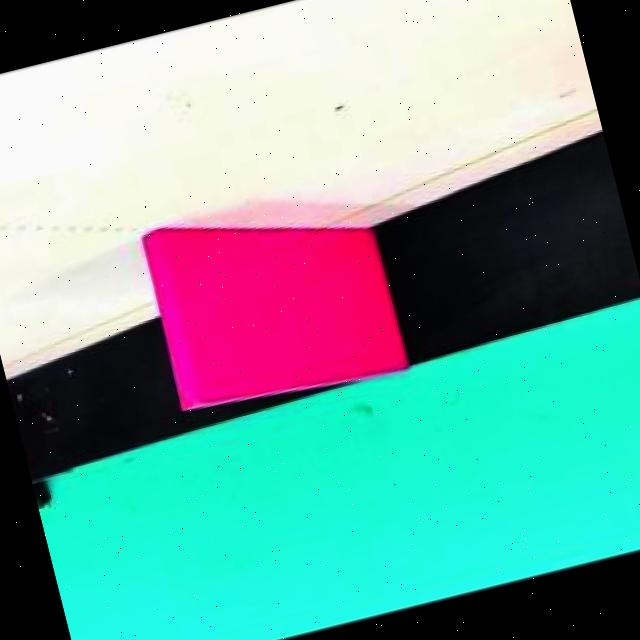xparking: (143, 191, 384, 396)
